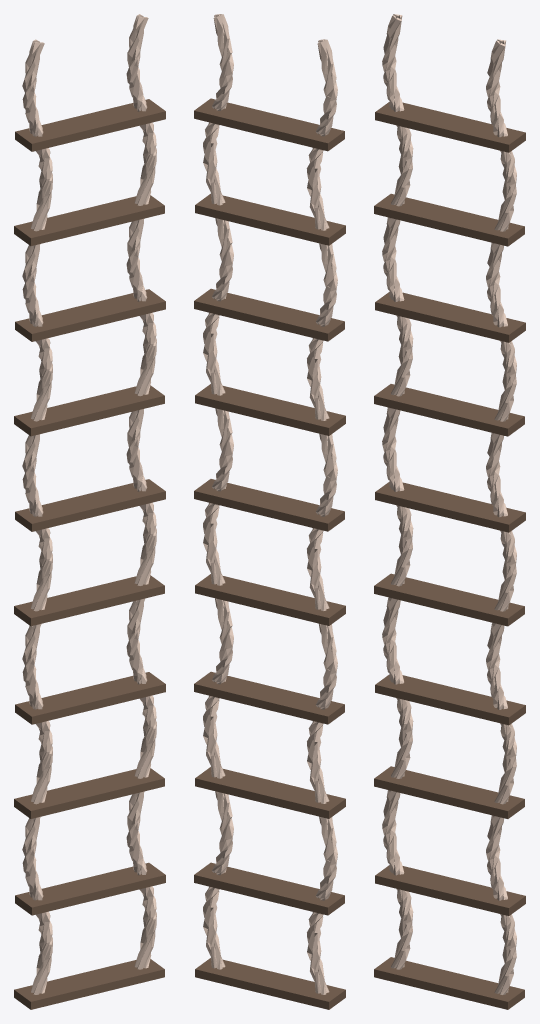
Rendered from RopeLadder.fbx.
3 renders of one model, left to right at view 1: azimuth 30°, elevation 25°; view 2: azimuth 150°, elevation 25°; view 3: azimuth 330°, elevation 25°, orthographic.
Parts seen in each view (by area): view 1: RopeLadder; view 2: RopeLadder; view 3: RopeLadder.
Boxes of the visible parts, bbox=[...] form: RopeLadder: bbox=[14, 14, 165, 1009]; RopeLadder: bbox=[194, 14, 345, 1009]; RopeLadder: bbox=[374, 14, 525, 1009].
Bounding box in the file's own units: 9.07 × 61.6 × 1.95.
